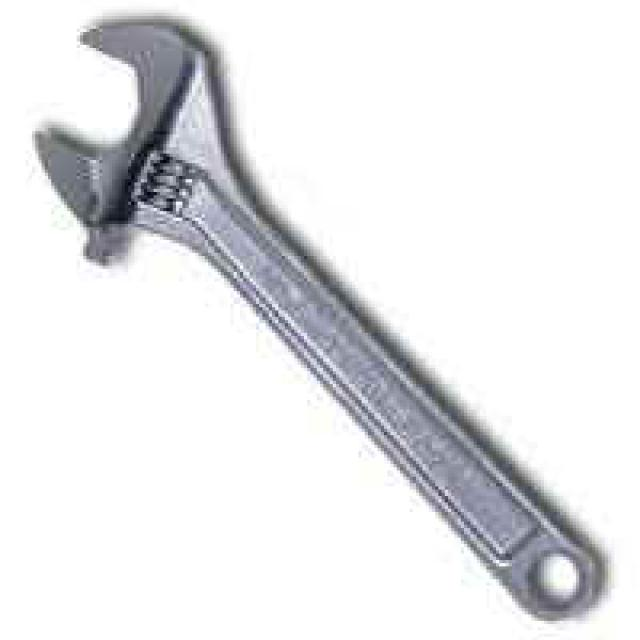wrench: (20, 8, 505, 485)
